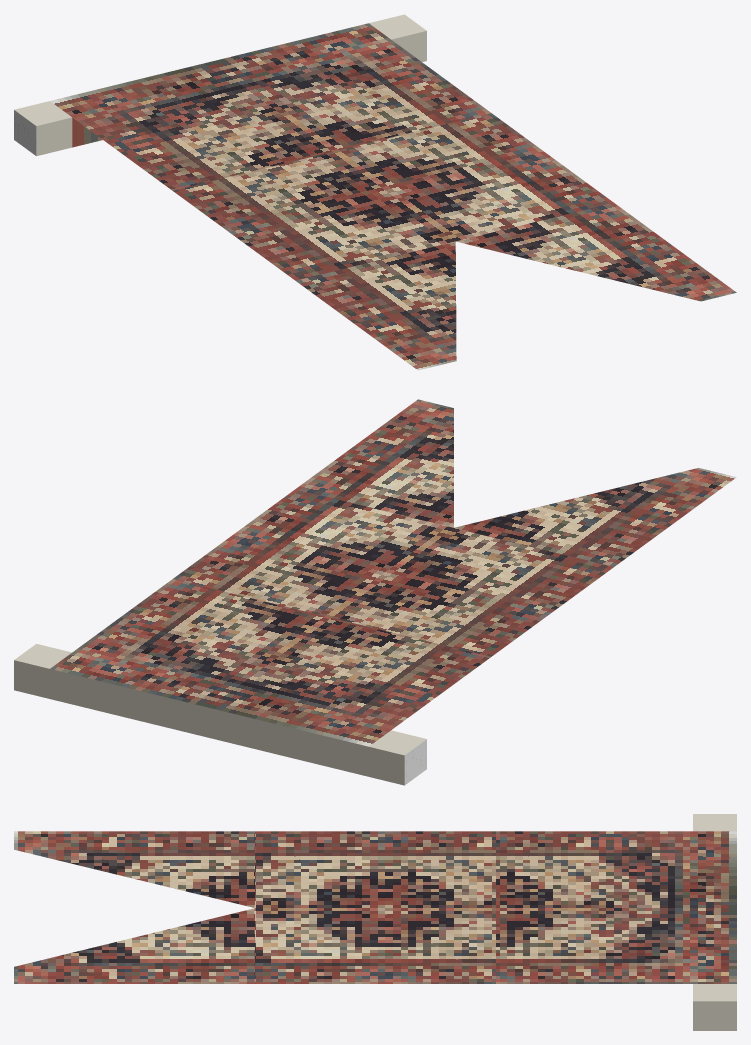
The model's file is Mesh_BG_tenture_2.fbx.
3 views of the same model, one above another, from view 1: azimuth 30°, elevation 25°; view 2: azimuth 150°, elevation 25°; view 3: azimuth 270°, elevation 25° (orthographic).
Visible parts, largest first — view 1: Mesh_BG_tenture_2; view 2: Mesh_BG_tenture_2; view 3: Mesh_BG_tenture_2.
Boxes of the visible parts, box(x1,y1,x2,y2) form: Mesh_BG_tenture_2: box(14, 14, 736, 370); Mesh_BG_tenture_2: box(14, 399, 736, 785); Mesh_BG_tenture_2: box(14, 814, 736, 1030).
Bounding box in the file's own units: 245 × 18.06 × 400.
